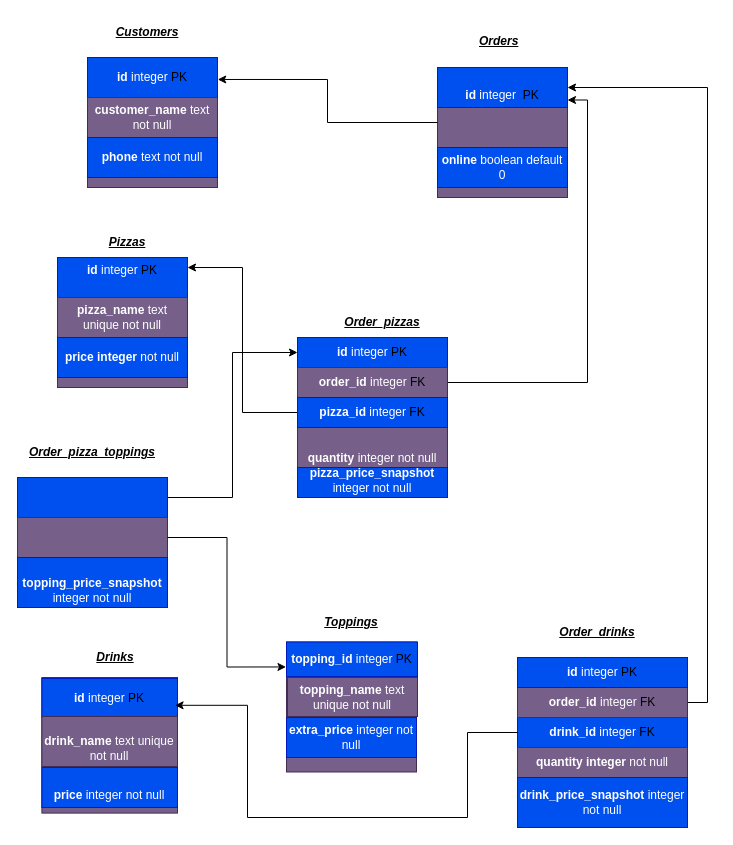
Some shapes in this 733 by 845 pixel diagram are drawn without their labels. The shapes that lost their labels are listed below. From the top down, each one's box as (x1, y1, x2, y2) in pixels, then its label:
(436, 96, 568, 148): customer_id FK
(16, 476, 168, 518): order_pizza_id integer FK
(16, 516, 168, 558): topping_id integer FK
